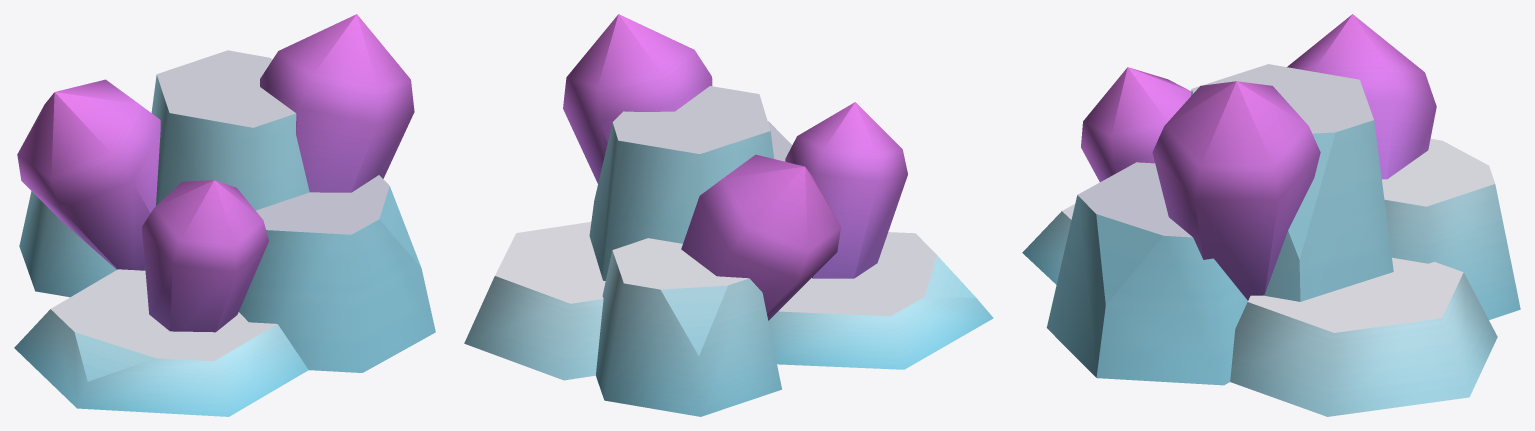
The model's file is snow-detail-crystal-large.fbx.
The picture shows the model from 3 angles, left to right: view 1: azimuth 30°, elevation 25°; view 2: azimuth 150°, elevation 25°; view 3: azimuth 270°, elevation 25°; orthographic projection. The views are drawn at different scales.
Visible parts, largest first — view 1: snow-detail-crystal-large; view 2: snow-detail-crystal-large; view 3: snow-detail-crystal-large.
Boxes of the visible parts, box(x1,y1,x2,y2) form: snow-detail-crystal-large: box(14, 14, 435, 416); snow-detail-crystal-large: box(464, 14, 993, 416); snow-detail-crystal-large: box(1022, 14, 1520, 416).
Size of the model in its own units: 89.22 by 55.18 by 85.93.
